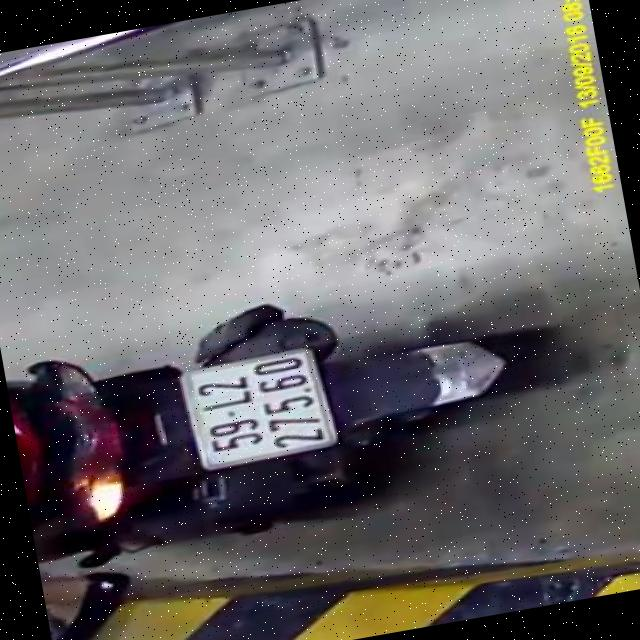license_plate: (180, 342, 338, 473)
